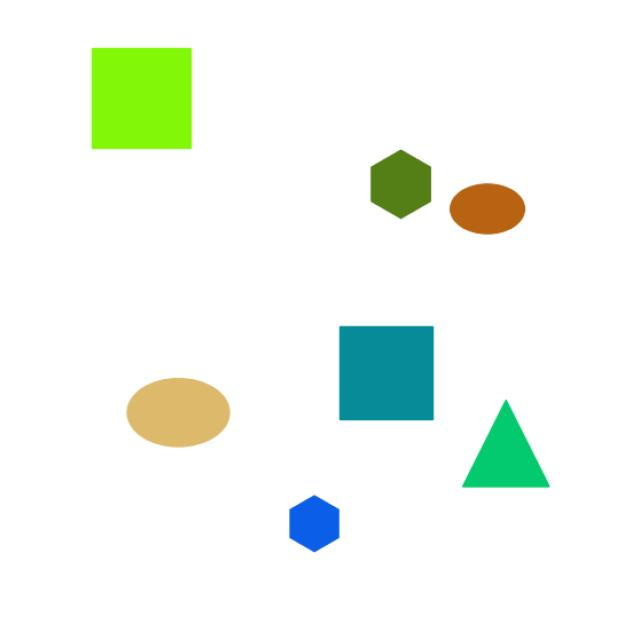Hexagon: (361, 133, 439, 226), (271, 497, 360, 565)
Oval: (95, 369, 246, 455), (443, 180, 545, 256)
Triangle: (442, 380, 568, 510)
square: (73, 38, 214, 170), (322, 308, 458, 442)
